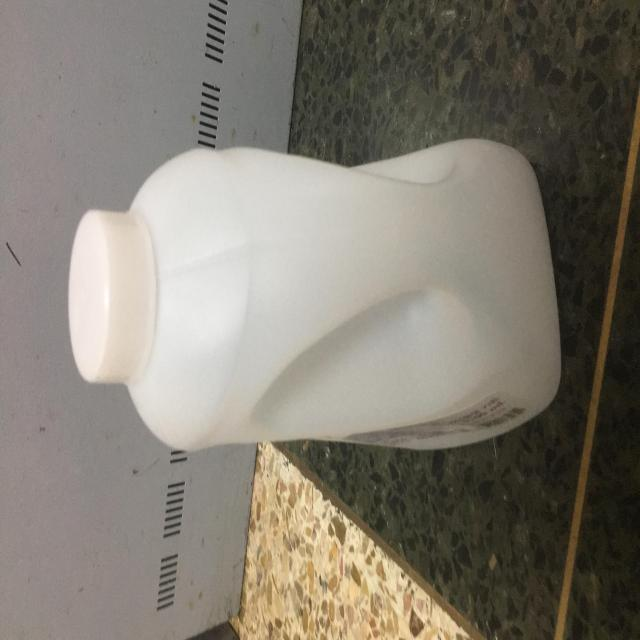bottle: (65, 123, 573, 465)
